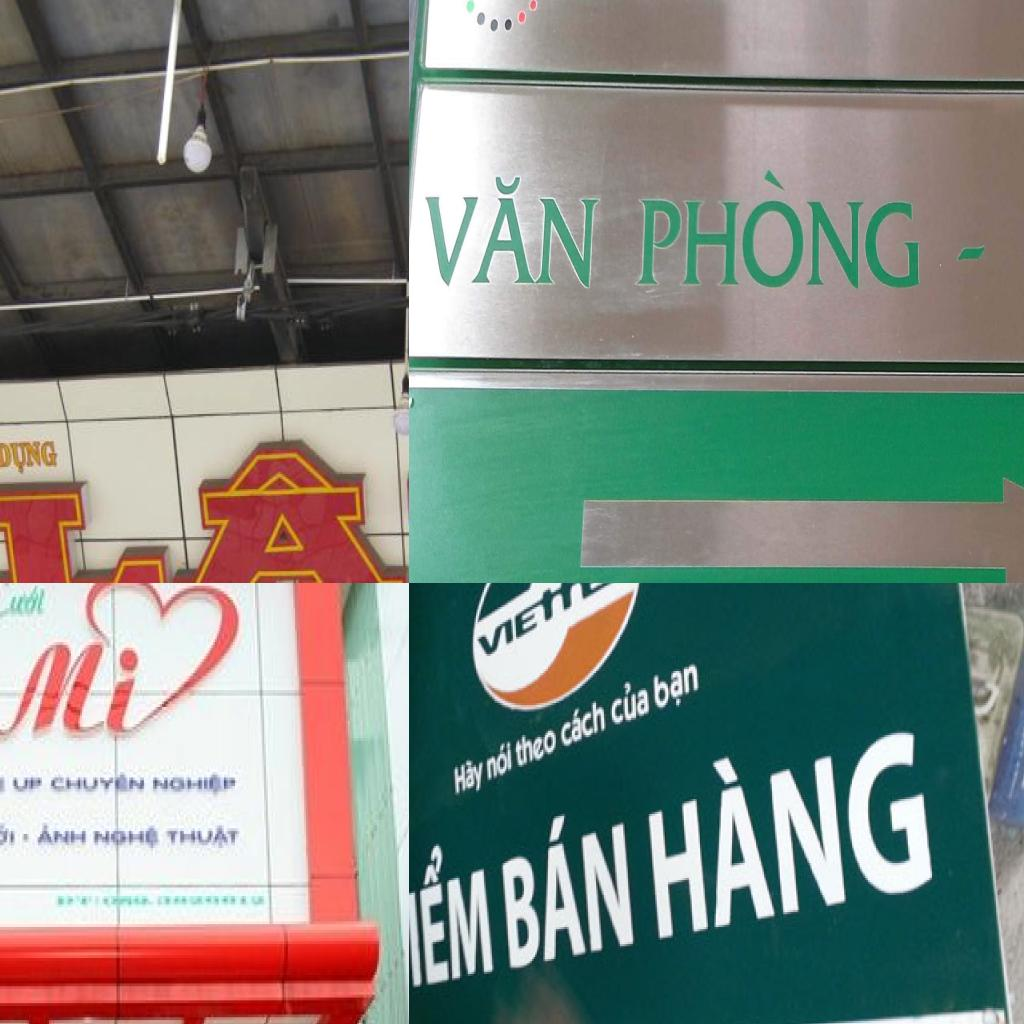text: (0, 405, 409, 583), (642, 707, 938, 944), (631, 170, 998, 294), (0, 583, 271, 749), (496, 793, 638, 976), (422, 174, 608, 291), (409, 827, 496, 1004), (472, 583, 639, 660), (650, 656, 704, 720), (49, 766, 149, 800), (556, 692, 609, 754), (150, 769, 242, 800), (609, 671, 652, 733), (166, 822, 244, 854), (514, 722, 561, 774), (0, 583, 58, 625), (93, 822, 164, 854), (0, 438, 59, 474), (36, 817, 93, 851), (452, 752, 486, 799), (484, 739, 514, 786), (54, 887, 104, 913), (0, 817, 36, 851), (13, 772, 47, 797)
